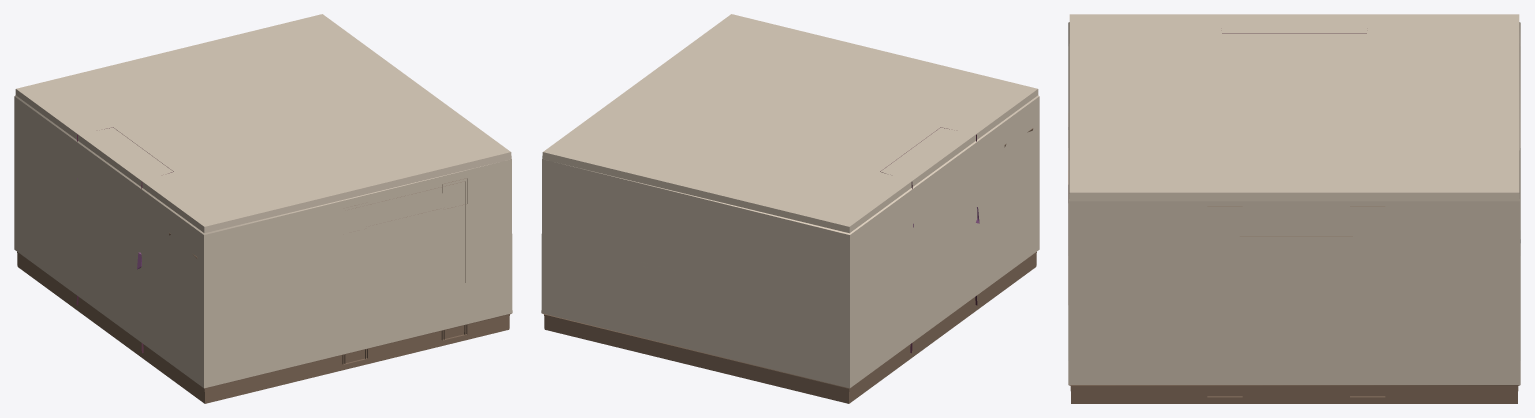
File: house_interior.fbx
3 views of the same model, side by side, from view 1: azimuth 30°, elevation 25°; view 2: azimuth 150°, elevation 25°; view 3: azimuth 270°, elevation 25° (orthographic). The views are drawn at different scales.
Parts seen in each view (by area): view 1: house_interior; view 2: house_interior; view 3: house_interior.
Part boxes in pixels (left/top/right/bottom): house_interior: left=14, top=14, right=512, bottom=403; house_interior: left=541, top=14, right=1039, bottom=403; house_interior: left=1068, top=14, right=1520, bottom=403.
Bounding box in the file's own units: 257 × 143 × 270.
